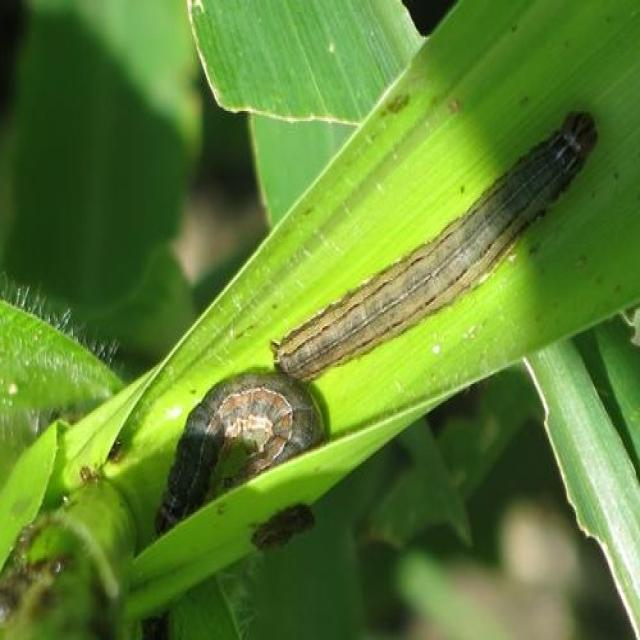army worm: (267, 110, 598, 385), (143, 382, 331, 539), (241, 499, 319, 558)
